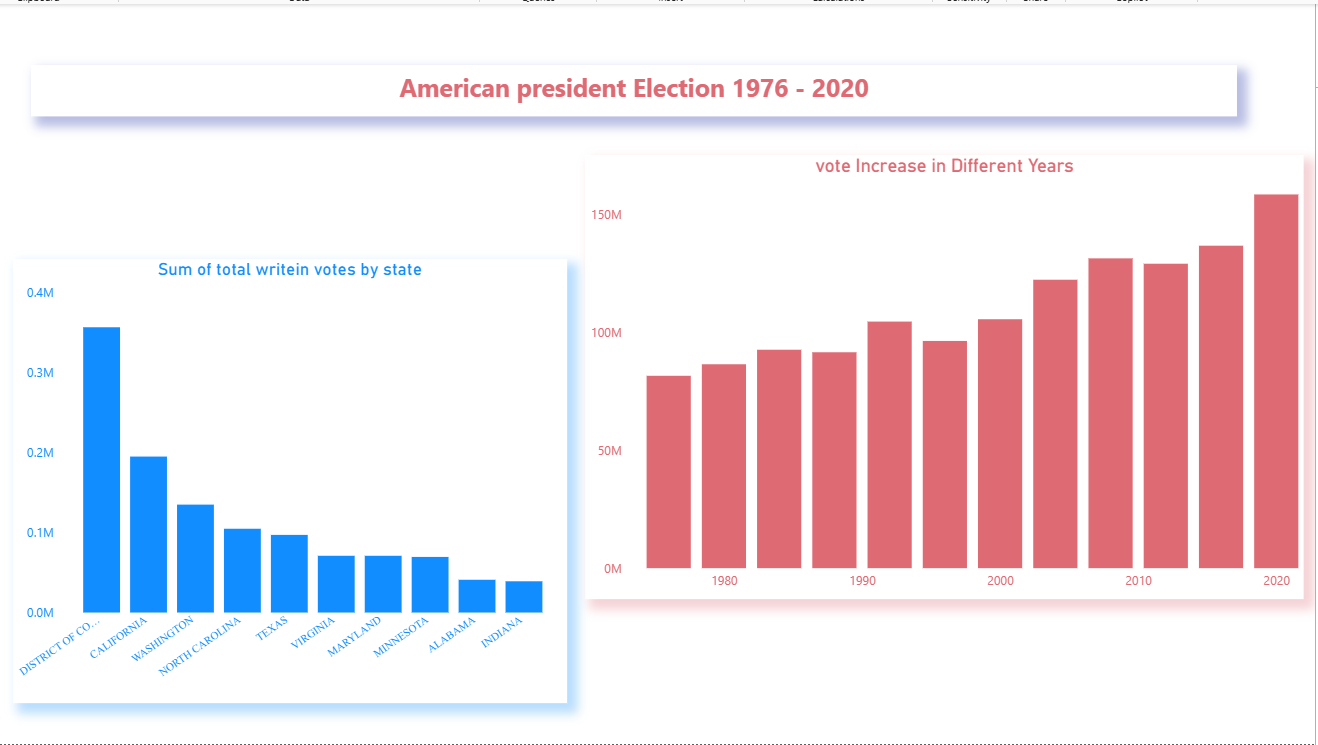

What the dashboard file says about the page in this screenshot:
{"tool":"powerbi","page":{"name":"Page 2","canvas":[1280,720],"ordinal":1},"visuals":[{"type":"textbox","box":[31.1,59.3,1173,49.6],"z":0},{"type":"columnChart","title":"vote Increase in Different Years ","fields":{"Category":["usa Q 1.year"],"Y":["Sum(usa Q 1.yearly_total)"]},"box":[570,146.9,699.3,431.9],"z":1000},{"type":"columnChart","title":"Sum of total writein votes by state","fields":{"Category":["usa  Q7.state"],"Y":["Sum(usa  Q7.total_writein_votes)"]},"box":[13.6,248,538.8,431.9],"z":2000}]}

Visuals, with their boxes on the page's 1280x720 design canvas (x1, y1, x2, y2). These are canvas units, not pixel positions in the 1318x745 screenshot, which may show the page scaled, cropped or inside an application window:
textbox: region(31, 59, 1204, 109)
"vote Increase in Different Years " columnChart: region(570, 147, 1269, 579)
"Sum of total writein votes by state" columnChart: region(14, 248, 552, 680)
